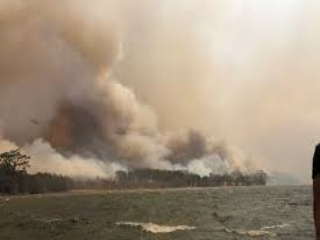smoke: (38, 52, 273, 187)
